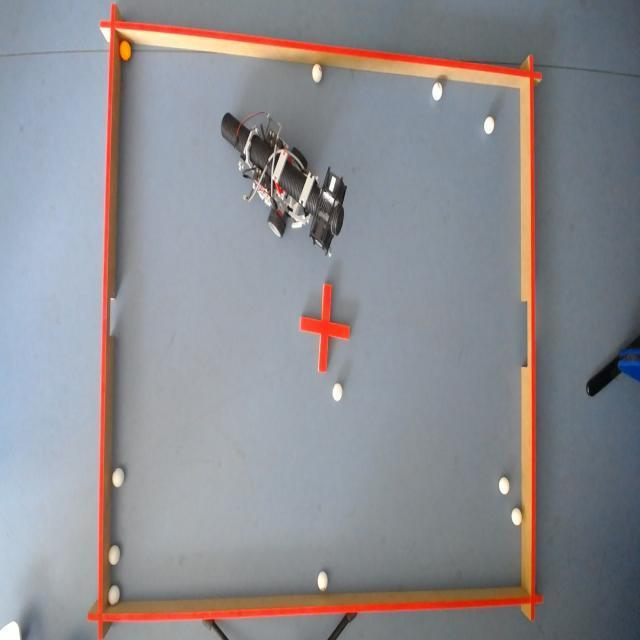robot: (218, 112, 350, 250)
white: (106, 543, 120, 565), (117, 41, 131, 62), (107, 584, 121, 604), (316, 572, 328, 593), (484, 116, 496, 136), (498, 475, 510, 495), (114, 468, 125, 489), (310, 62, 321, 82), (512, 506, 522, 526), (432, 82, 442, 101), (332, 384, 342, 402)
